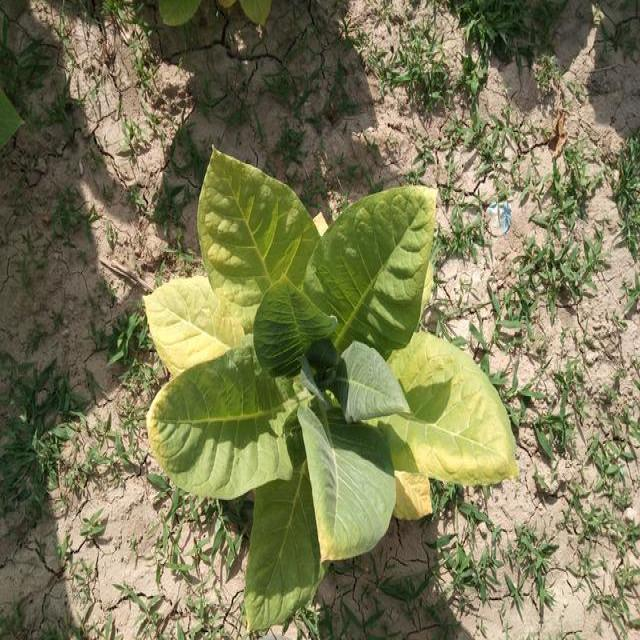crop: (132, 129, 523, 619)
